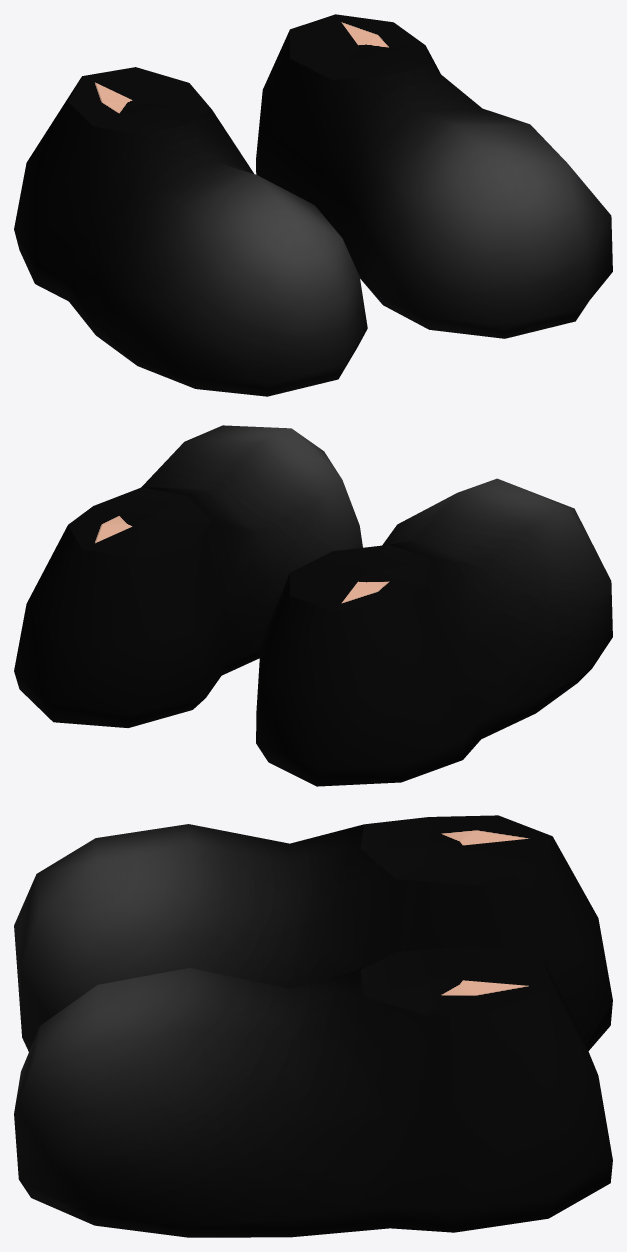
File: AF_M_Shoes_01.FBX
3 views of the same model, one above another, from view 1: azimuth 30°, elevation 25°; view 2: azimuth 150°, elevation 25°; view 3: azimuth 270°, elevation 25° (orthographic). The views are drawn at different scales.
Visible parts, largest first — view 1: AF_M_Shoes_01; view 2: AF_M_Shoes_01; view 3: AF_M_Shoes_01.
Boxes of the visible parts, bbox=[...] form: AF_M_Shoes_01: bbox=[14, 14, 612, 396]; AF_M_Shoes_01: bbox=[14, 425, 612, 786]; AF_M_Shoes_01: bbox=[14, 815, 612, 1237].
Bounding box in the file's own units: 3.81 × 1.26 × 3.45.
1 material, 1 textured.
